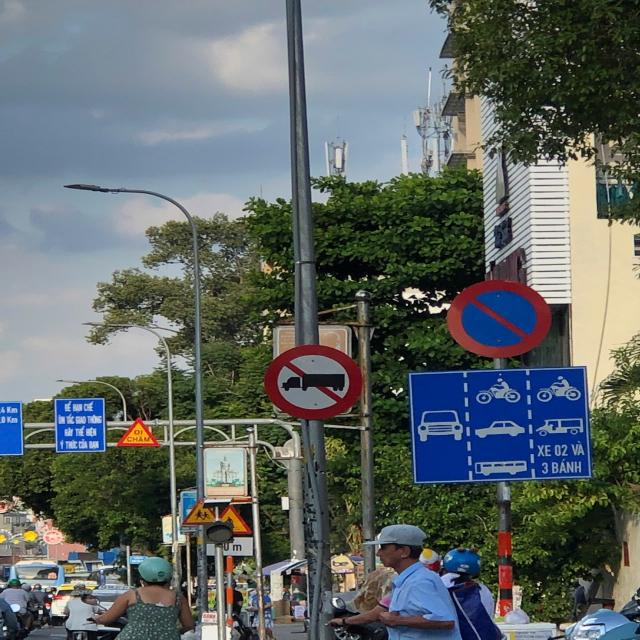Bien bao cam do xe: (433, 274, 568, 365)
Bien bao cam xe so-mi ro-mooc: (255, 335, 374, 424)
